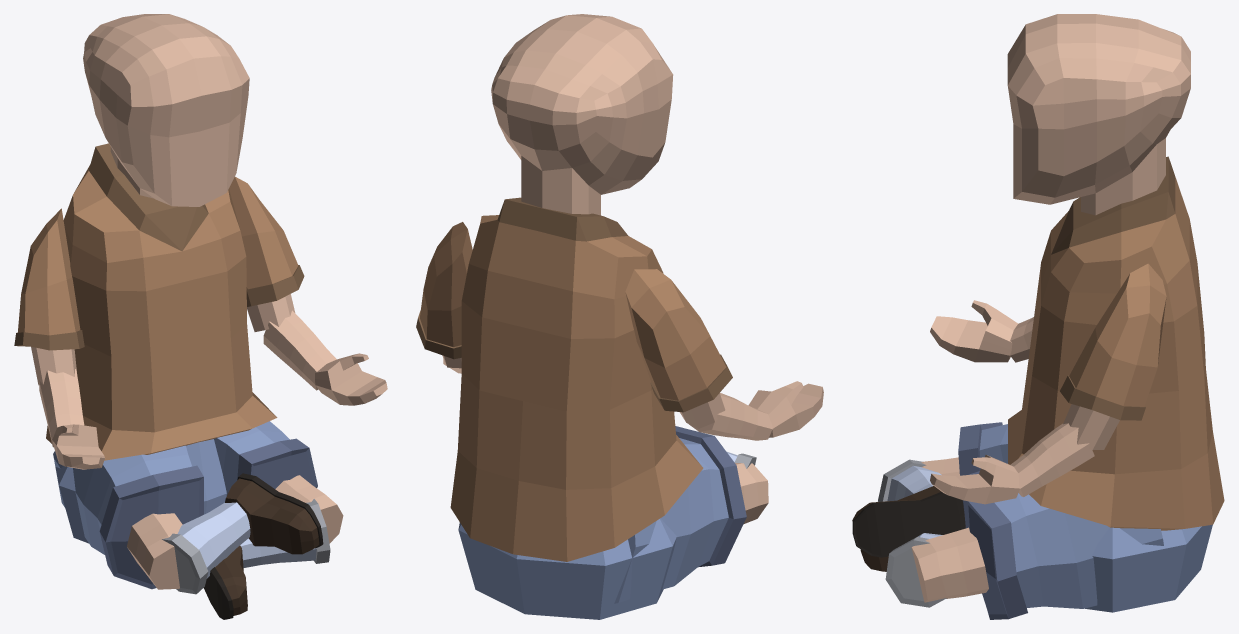
Rendered from SCN_Child_Export.glb.
The picture shows the model from 3 angles, left to right: view 1: azimuth 30°, elevation 25°; view 2: azimuth 150°, elevation 25°; view 3: azimuth 270°, elevation 25°; orthographic projection. The views are drawn at different scales.
Visible parts, largest first — view 1: MSH_Child_Lotus; view 2: MSH_Child_Lotus; view 3: MSH_Child_Lotus.
Boxes of the visible parts, x1,y1,x2,y2 form: MSH_Child_Lotus: [14, 14, 387, 619]; MSH_Child_Lotus: [416, 14, 823, 619]; MSH_Child_Lotus: [852, 14, 1224, 619].
Bounding box in the file's own units: 0.5193 × 0.8102 × 0.4842.
1 material, 1 textured.
